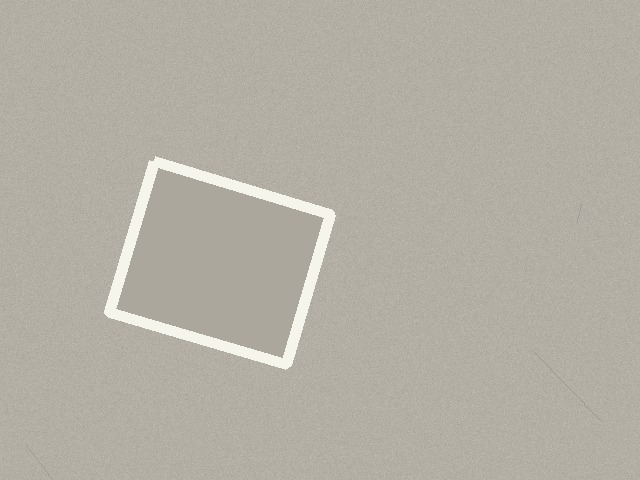parking_area: (109, 161, 330, 364)
